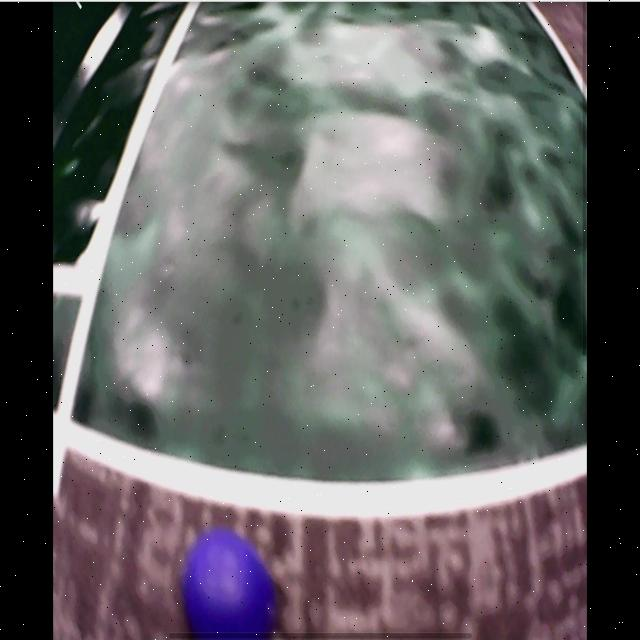ball: (185, 530, 272, 637)
